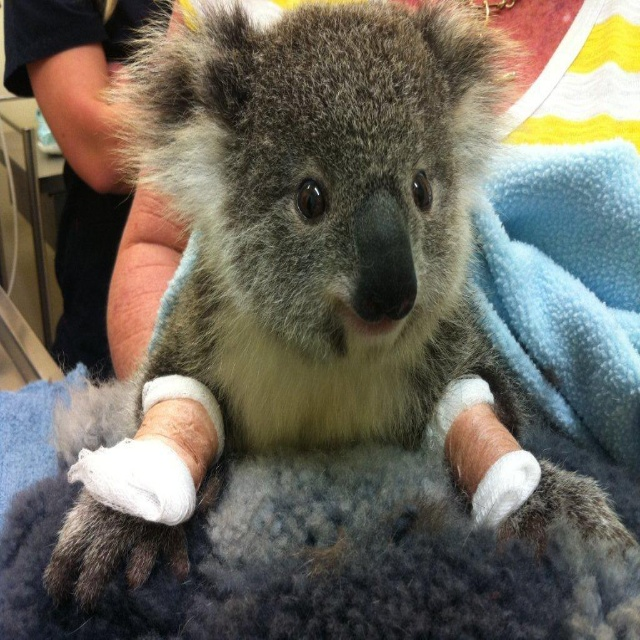Koala: (43, 0, 634, 620)
